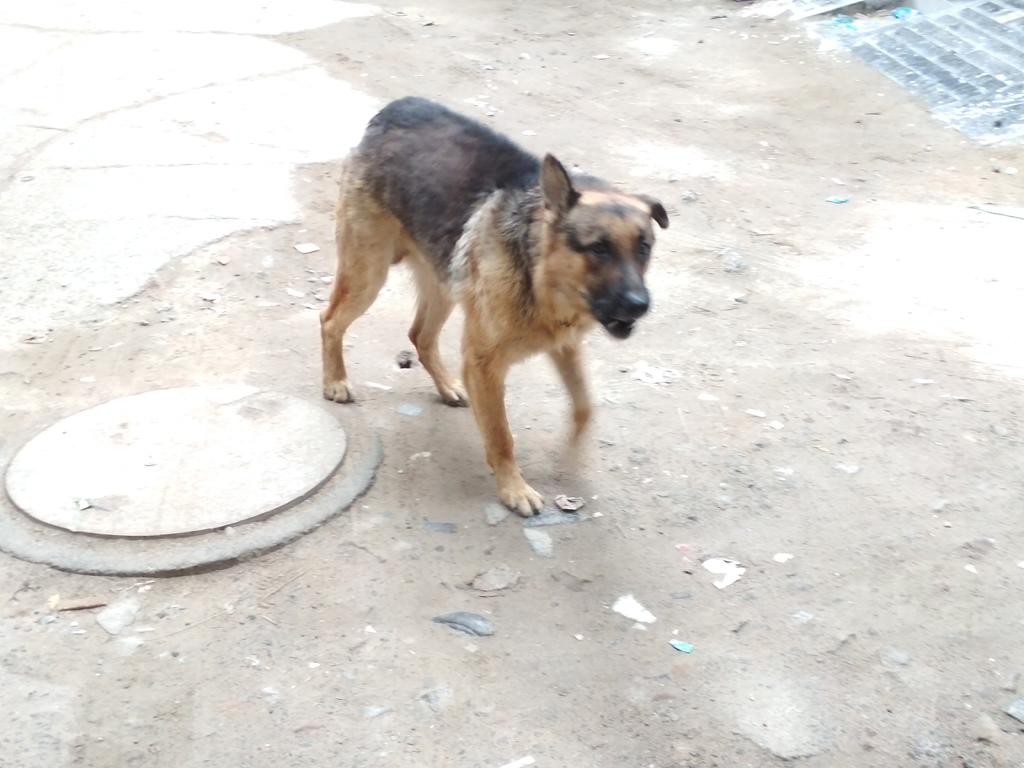dog: (319, 98, 669, 519)
